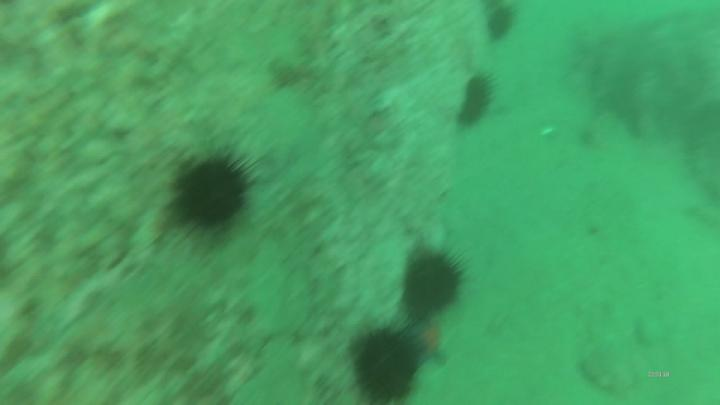echinus: (170, 147, 260, 244), (353, 319, 424, 405), (401, 250, 468, 316), (454, 72, 500, 128), (488, 4, 519, 45)
starfish: (403, 309, 451, 371)
